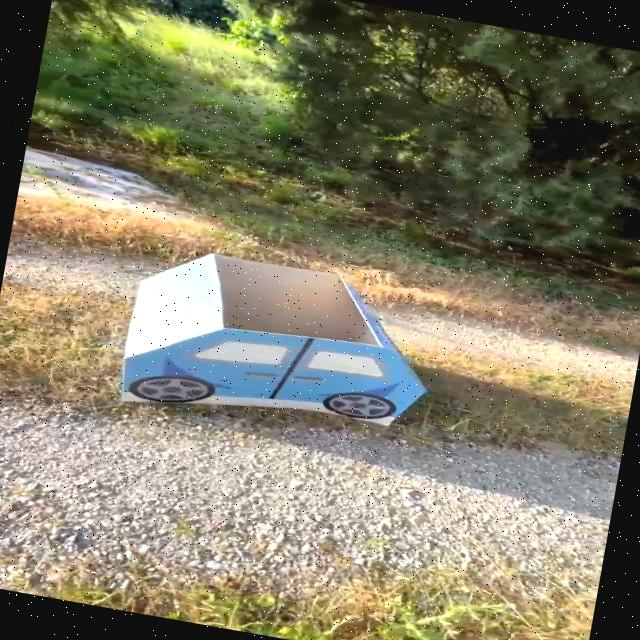blue_car: (75, 221, 501, 492)
